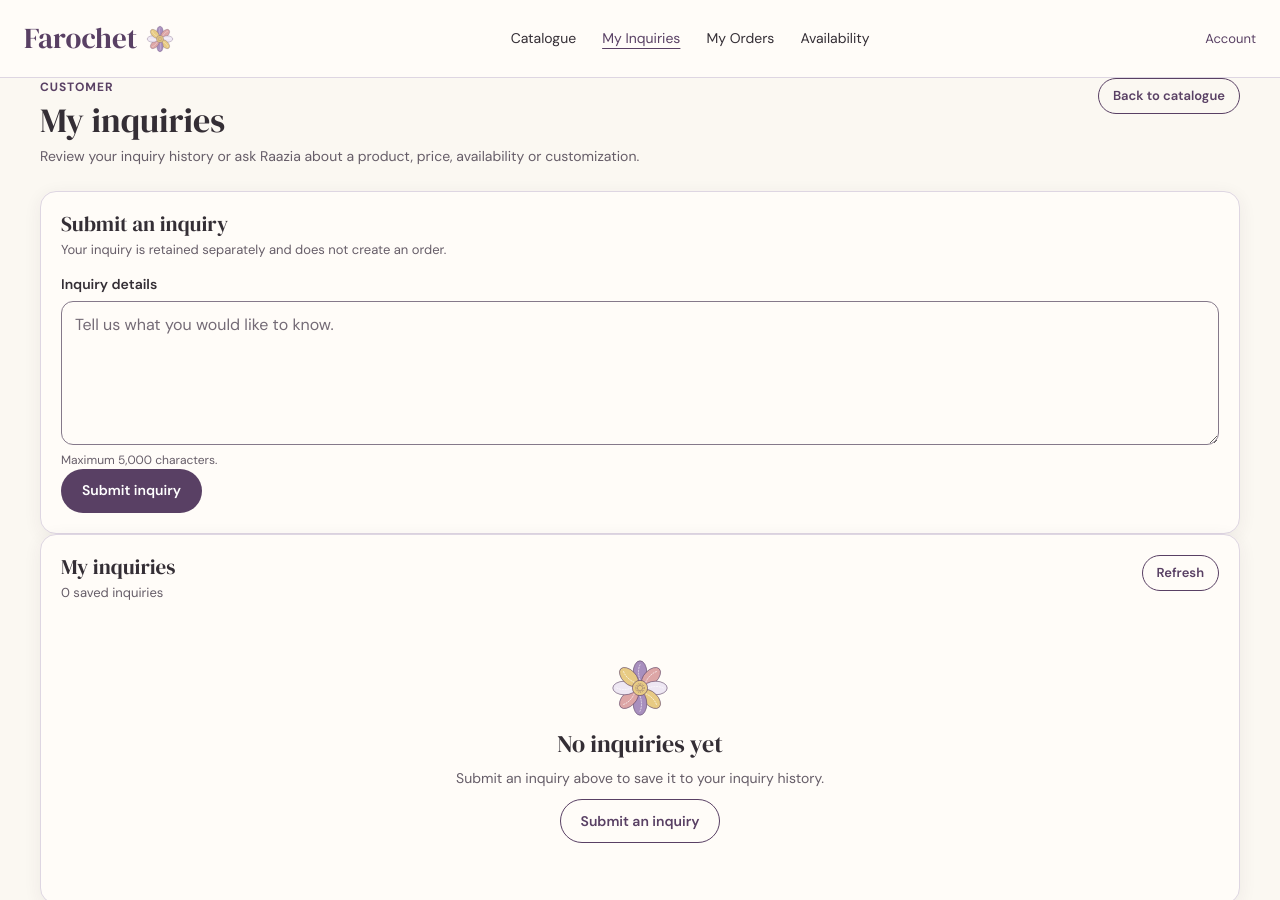
Test: CustomerInquiryPage › shows validation for an empty message
Expected: the heading "No inquiries yet" is shown, x1=557 y1=730 x2=723 y2=758
Click the button "Submit inquiry".
click(132, 491)  # box x1=61 y1=469 x2=202 y2=513
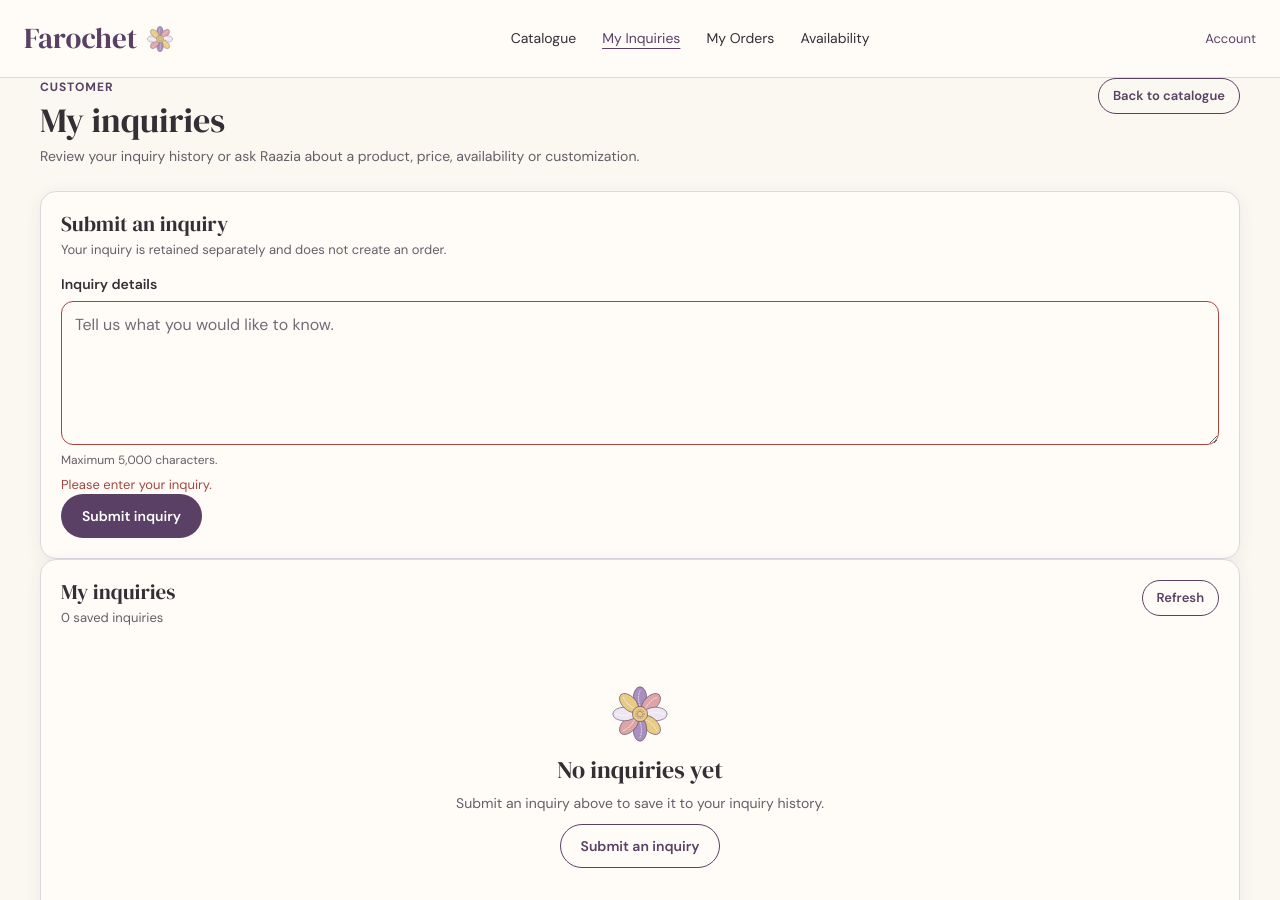
Result: the message reads "Please enter your inquiry." at x1=61 y1=476 x2=212 y2=493
